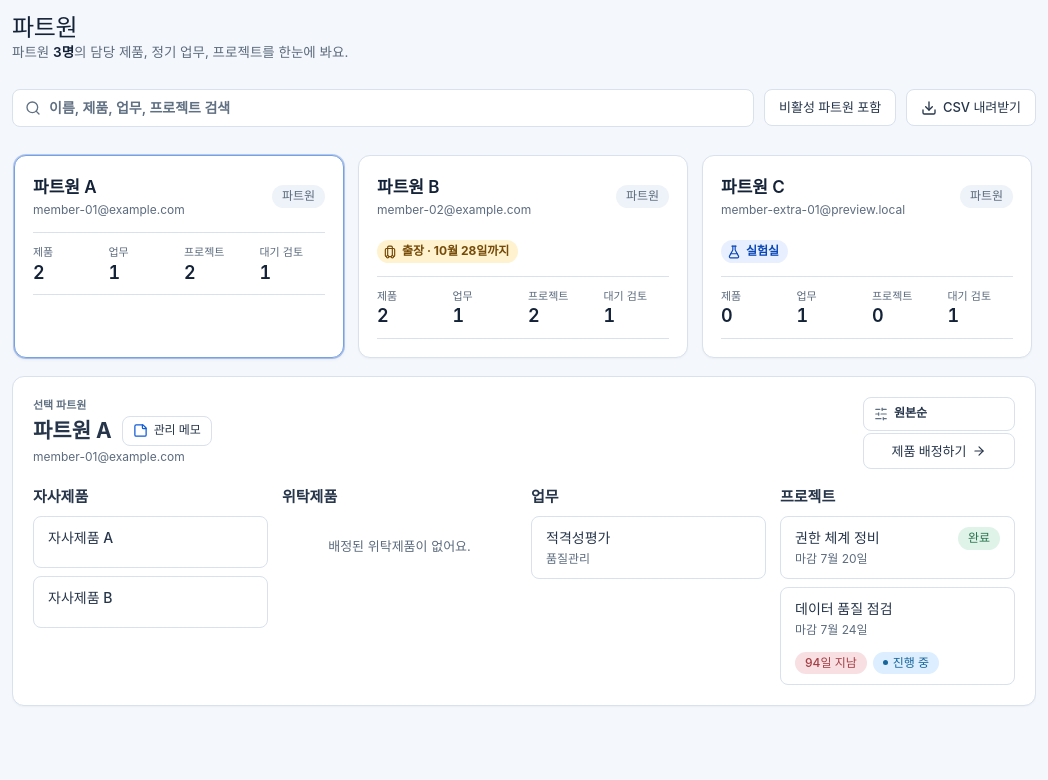
Scenario: TeamPanel visible selection › keeps the detail and memo target inside the filtered directory
Type "member-02@example.com" into the field with placeholder "이름, 제품, 업무, 프로젝트 검색".
click(395, 108); type("member-02@example.com")  # box [49,97,741,118]
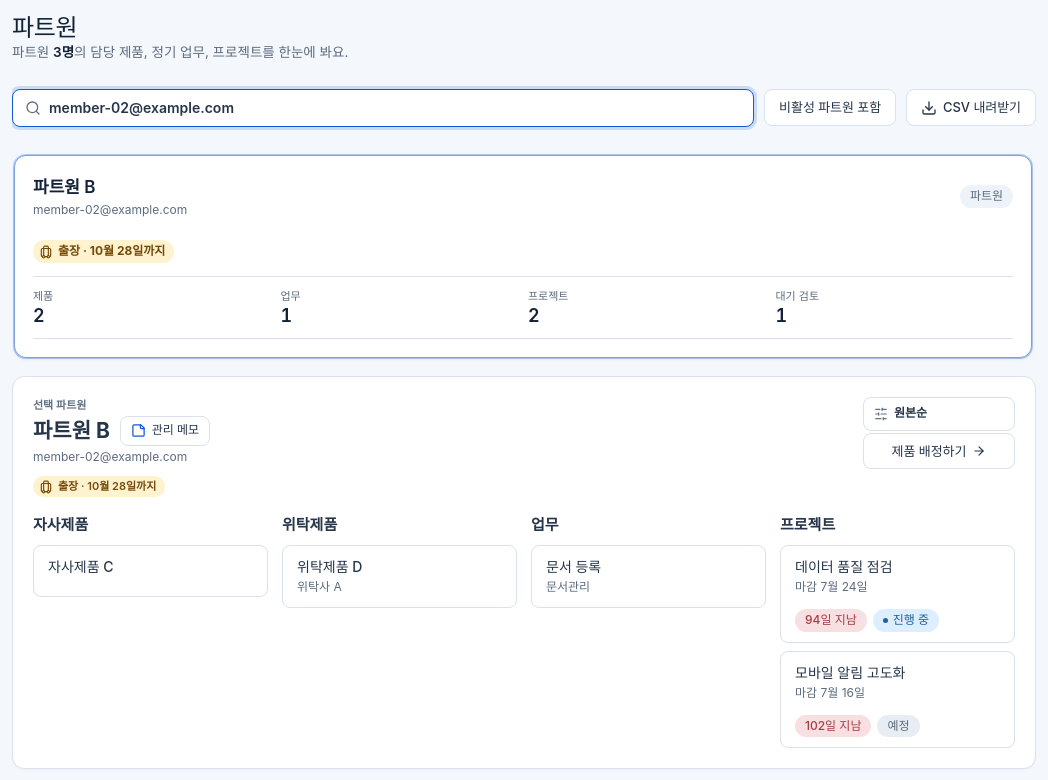
Check: the text "선택 파트원" is shown, box [33,398,86,412]
Check: the heading "파트원 B" is shown, box [33,418,110,444]
